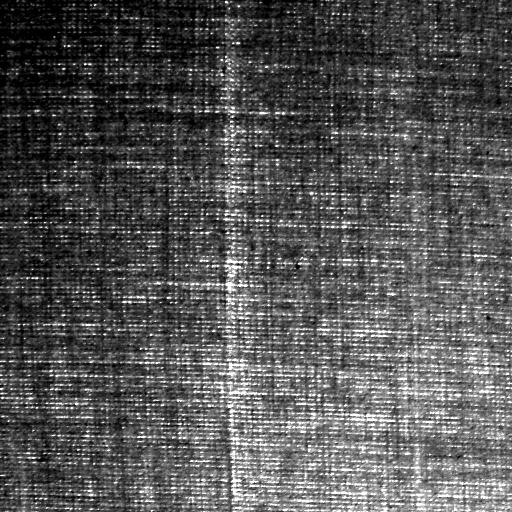fabric_hole: (228, 6, 258, 502)
fabric_missing_pick: (230, 12, 264, 501)
